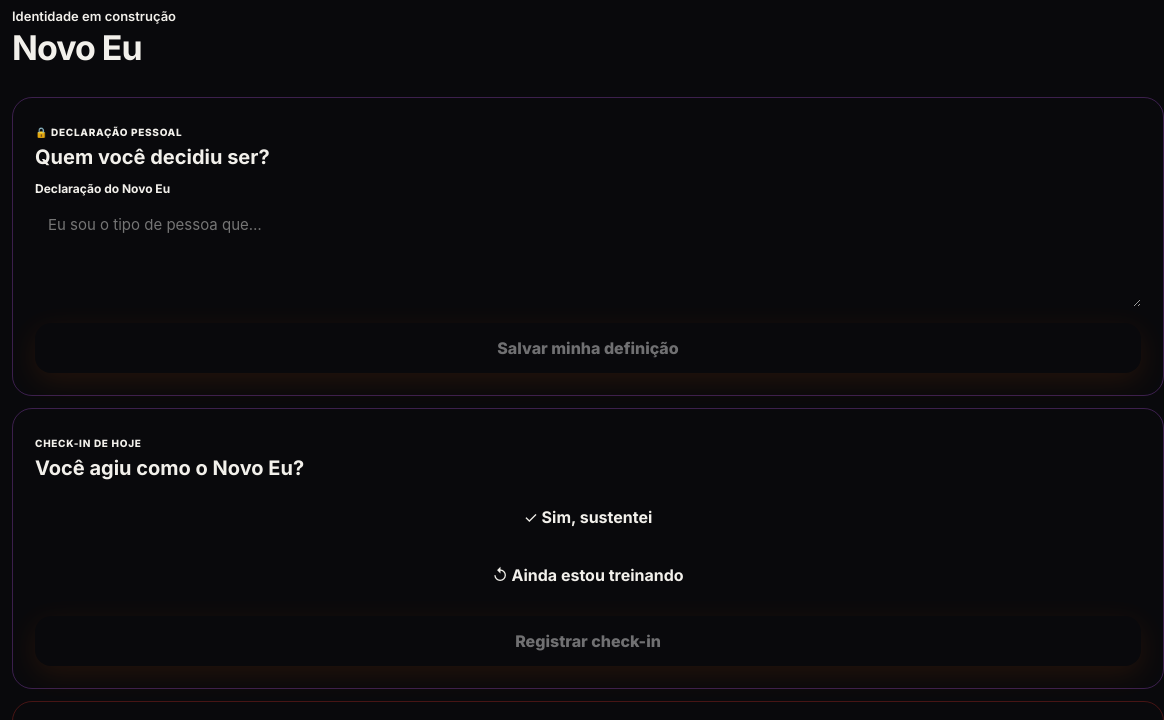
Scenario: Projeto66NewSelfPage › allows a training check-in and exposes a failed private save
The image size is (1164, 720).
Click the button "↺ Ainda estou treinando" at (588, 575), box [35,550,1141,600]
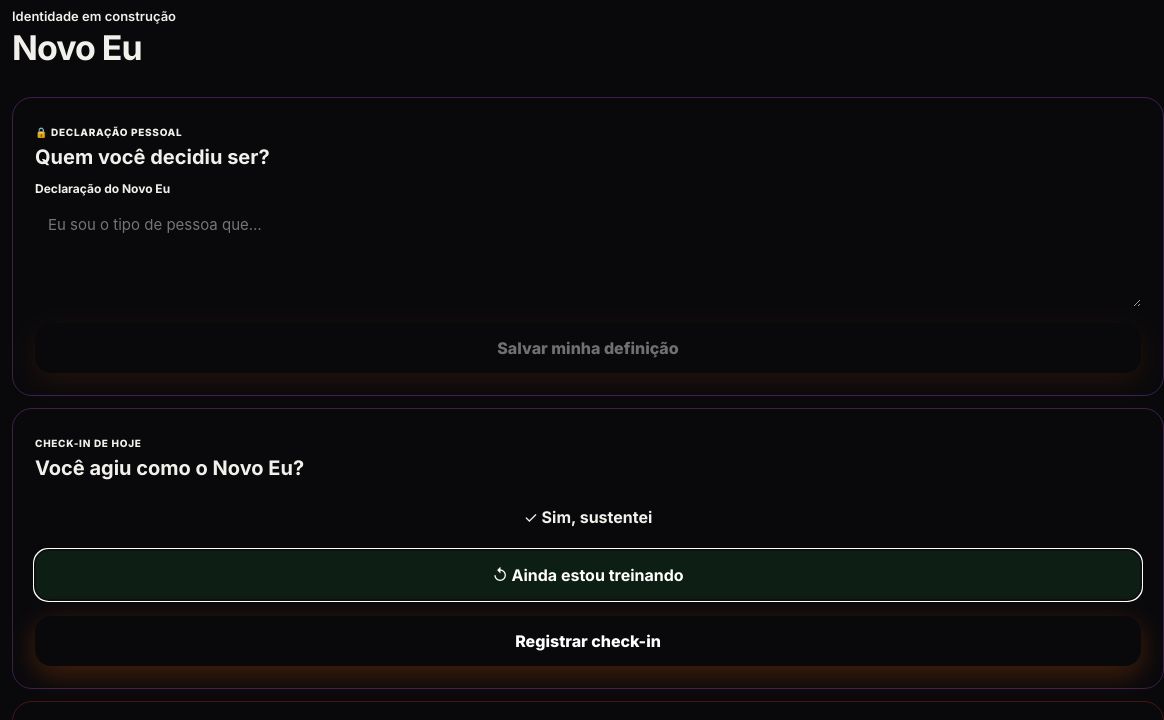
Click the button "Registrar check-in" at (588, 641), box [35,616,1141,666]
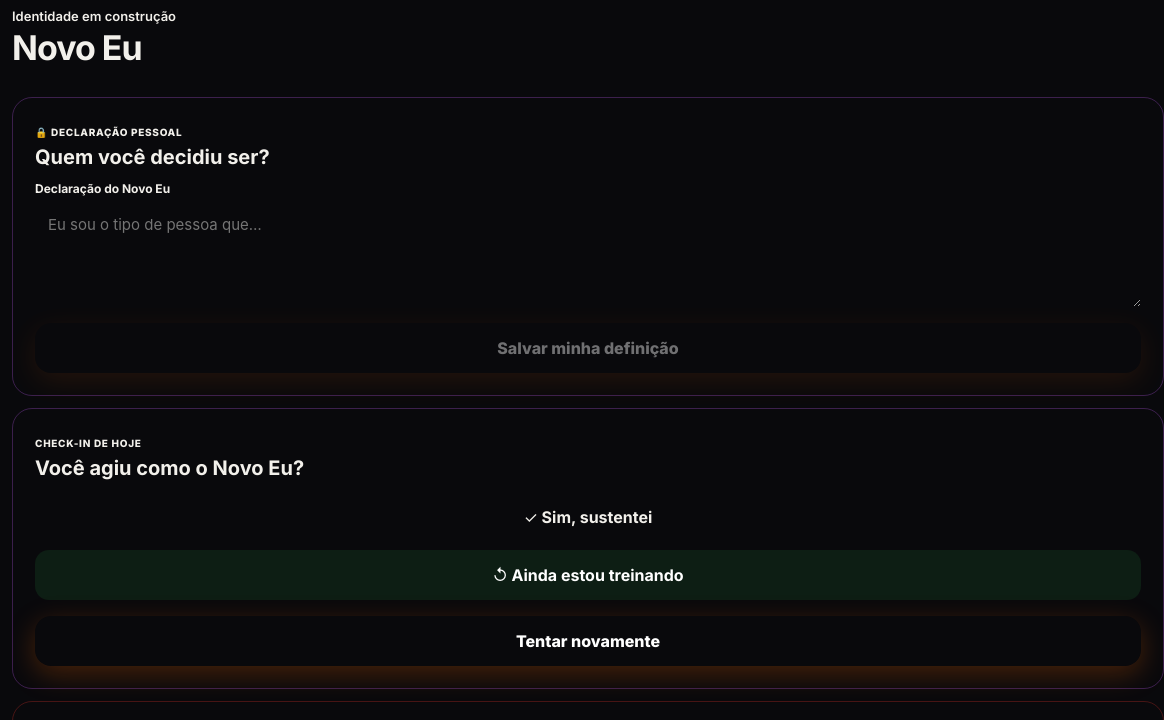
Result: the button "Tentar novamente" is shown at [35,616,1141,666]
